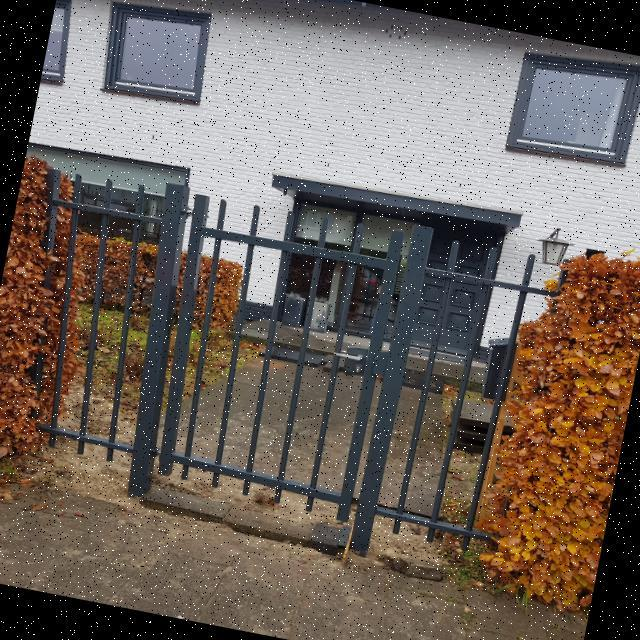fence line: (24, 177, 534, 566)
